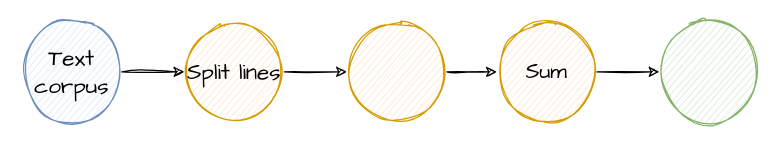
This 781x144 diagram has some shape labels left out. Here are the shapes that lost their labels. From the top down, the centre of each, then its label:
At (x=396, y=71): "Group By word".
At (x=708, y=71): "Wordcount".
